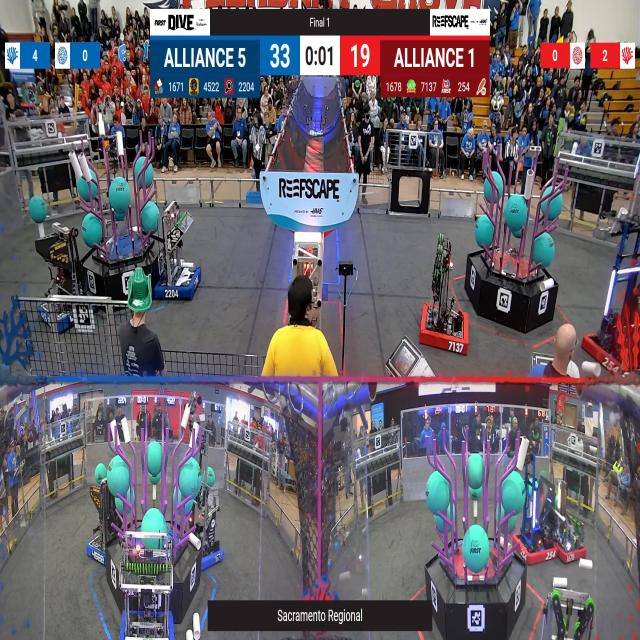scoreboard: (150, 36, 490, 97)
